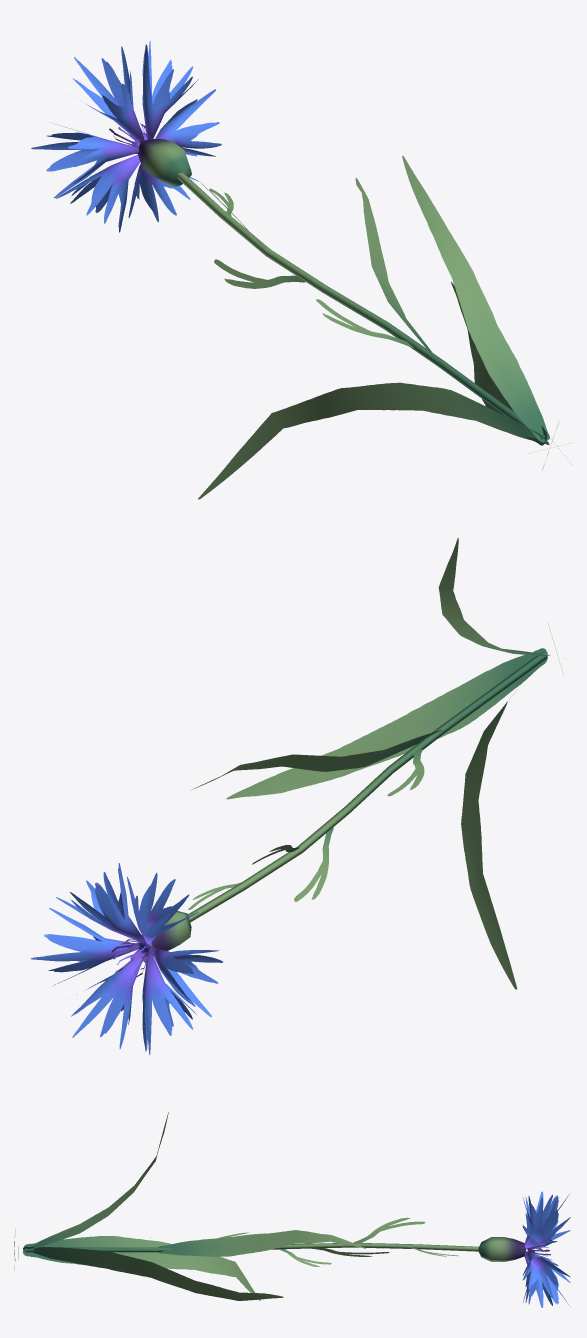
The model's file is Cornflower xrotat.fbx.
The picture shows the model from 3 angles, top to bottom: view 1: azimuth 30°, elevation 25°; view 2: azimuth 150°, elevation 25°; view 3: azimuth 270°, elevation 25°; orthographic projection. The views are drawn at different scales.
Visible parts, largest first — view 1: cornfloweer leaf.007; view 2: cornfloweer leaf.007; view 3: cornfloweer leaf.007.
Part boxes in pixels (bbox=[...]): cornfloweer leaf.007: bbox=[31, 41, 572, 499]; cornfloweer leaf.007: bbox=[31, 538, 563, 1054]; cornfloweer leaf.007: bbox=[14, 1112, 570, 1307].
Size of the model in its own units: 34.49 by 44.38 by 94.28.
